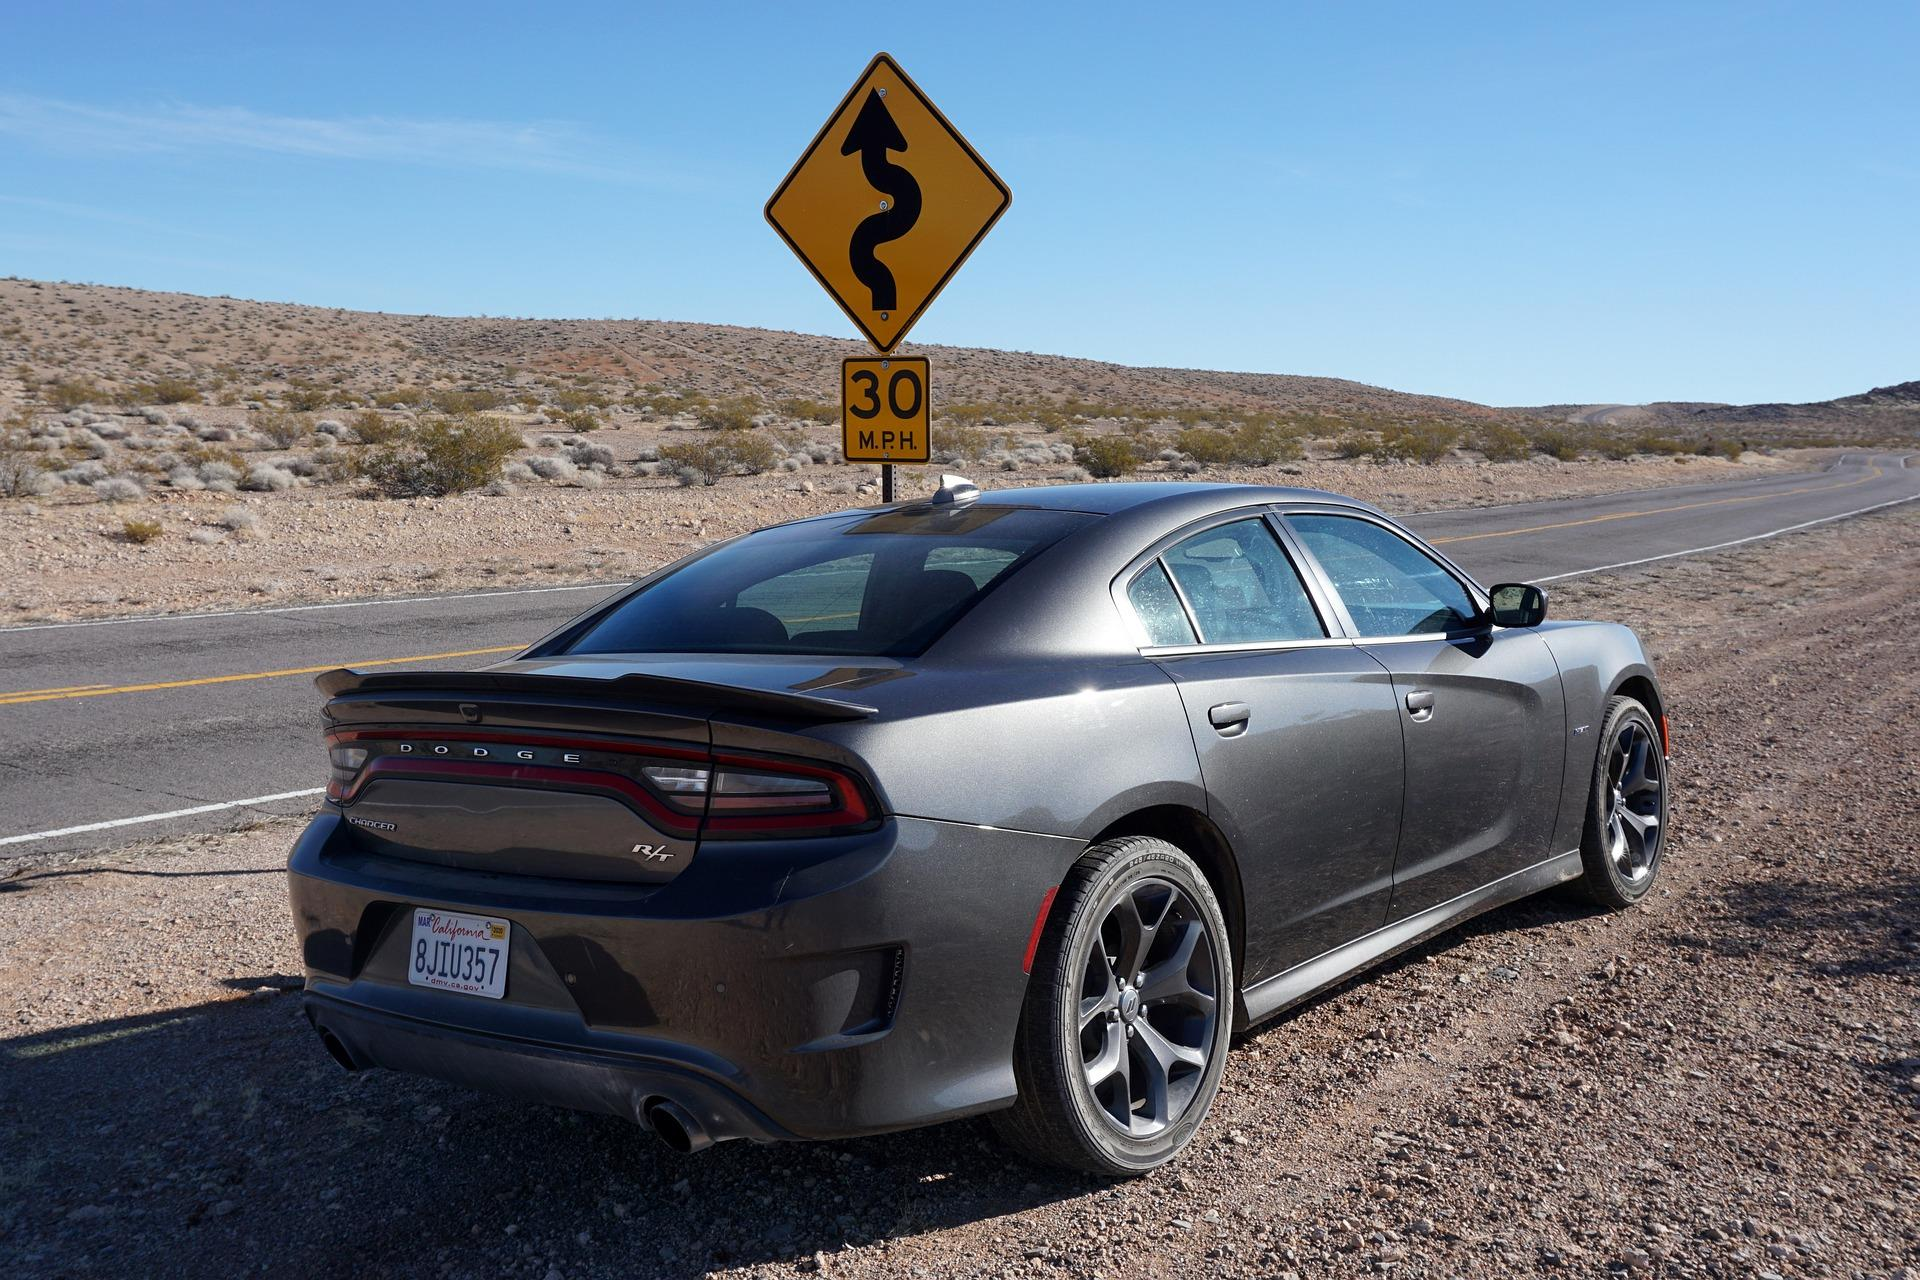dodge: (384, 729, 599, 777)
